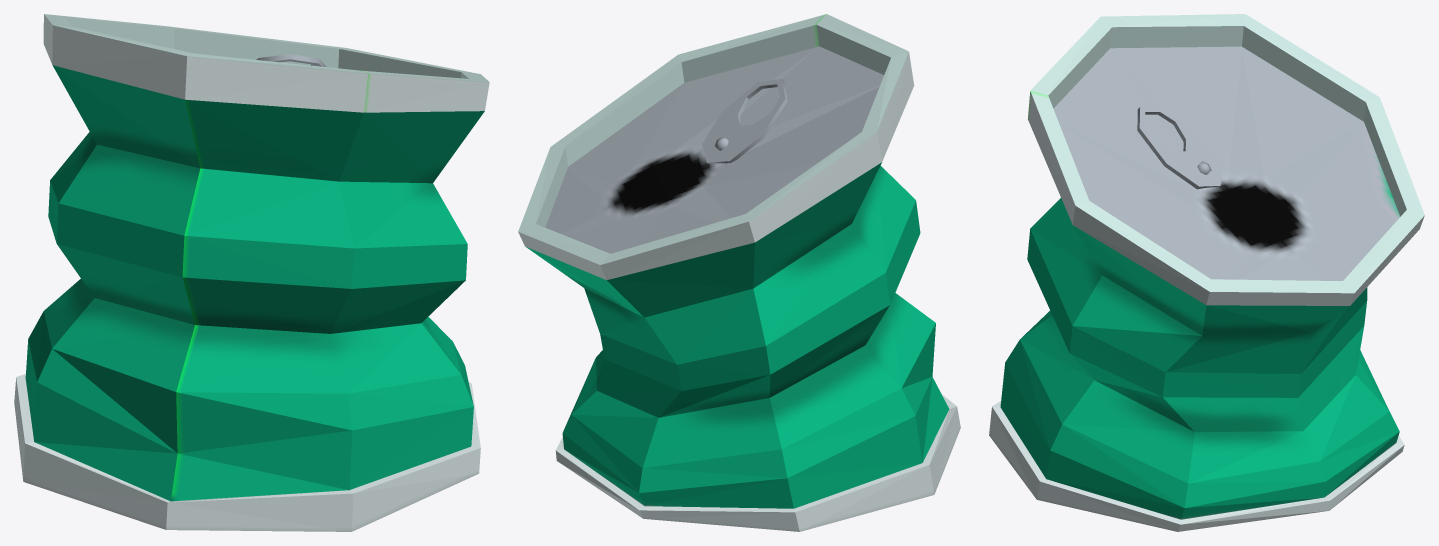
File: Can02.FBX
3 views of the same model, side by side, from view 1: azimuth 30°, elevation 25°; view 2: azimuth 150°, elevation 25°; view 3: azimuth 270°, elevation 25° (orthographic). The views are drawn at different scales.
Visible parts, largest first — view 1: Can02; view 2: Can02; view 3: Can02.
Boxes of the visible parts, <box> form: Can02: <box>14,14,489,531</box>; Can02: <box>518,14,960,531</box>; Can02: <box>989,14,1424,531</box>.
Bounding box in the file's own units: 46.28 × 45.68 × 43.99.
